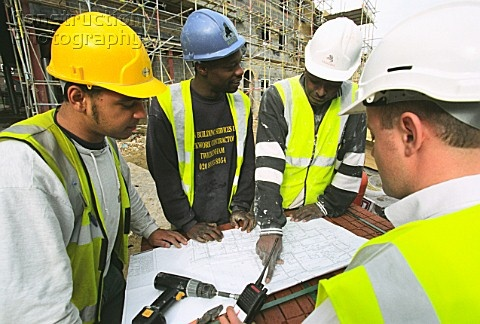blue: (180, 9, 245, 94)
white: (369, 3, 476, 196), (300, 15, 361, 98)
yellow: (51, 11, 150, 141)
